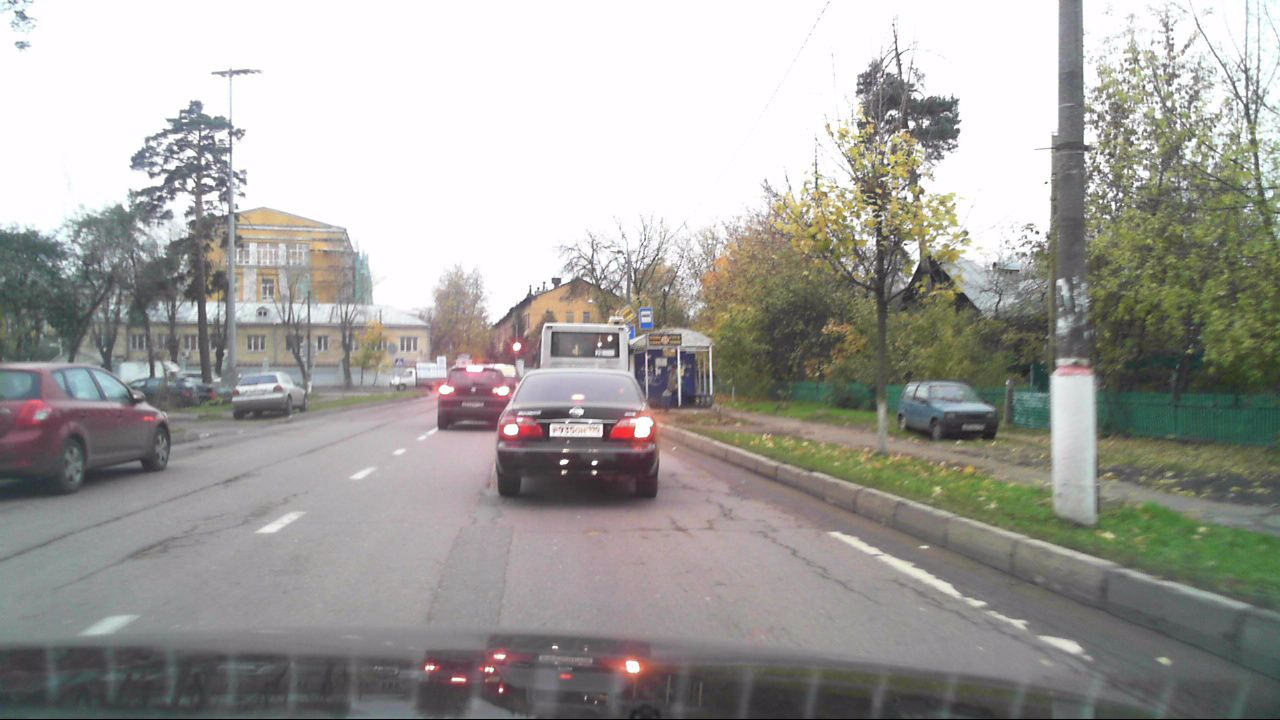main road: (619, 304, 637, 323)
